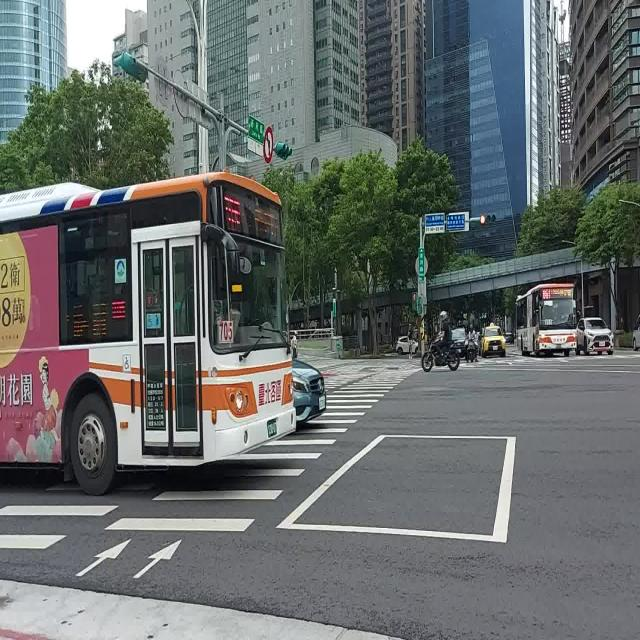bus: (0, 171, 296, 493), (515, 284, 576, 356)
car: (292, 360, 326, 424), (576, 318, 614, 356), (395, 336, 419, 356)
crosswalk: (104, 367, 421, 533), (0, 503, 121, 550), (324, 370, 379, 392)
motocycle: (421, 342, 460, 371), (481, 324, 505, 358), (465, 340, 478, 362)
